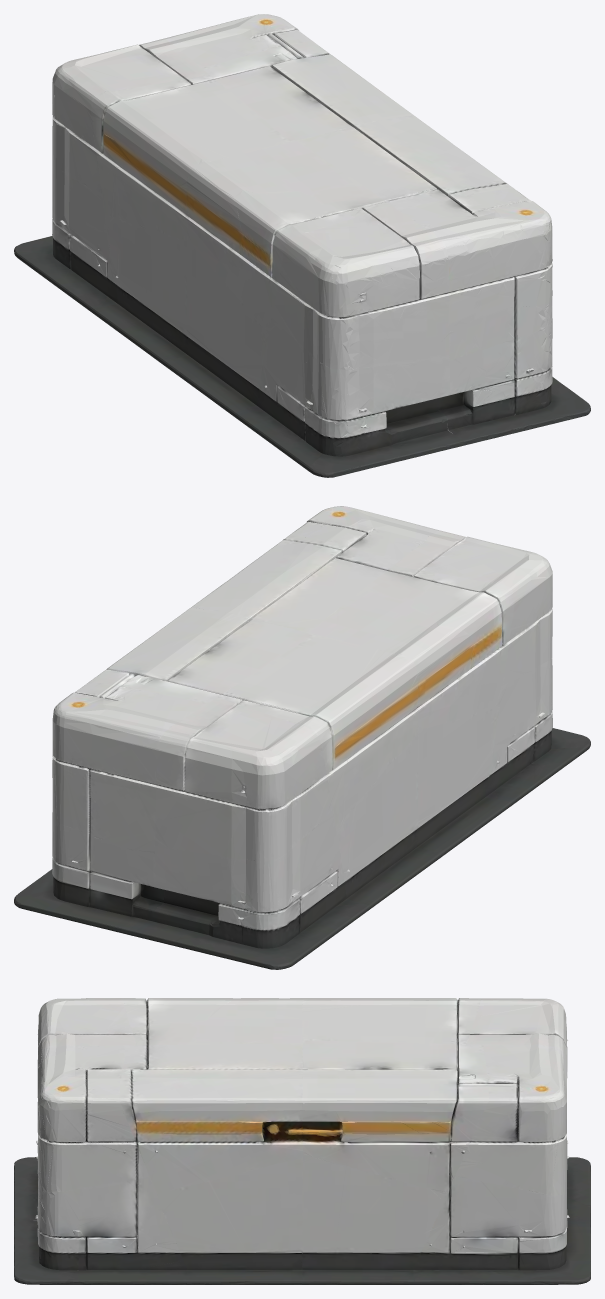
File: futuristic-lab-device-optimized.glb
3 renders of one model, top to bottom at view 1: azimuth 30°, elevation 25°; view 2: azimuth 150°, elevation 25°; view 3: azimuth 270°, elevation 25°, orthographic. The views are drawn at different scales.
Visible parts, largest first — view 1: tripo_node_e3cb4c01-ec2a-4add-b4ea-040828f3095d; view 2: tripo_node_e3cb4c01-ec2a-4add-b4ea-040828f3095d; view 3: tripo_node_e3cb4c01-ec2a-4add-b4ea-040828f3095d.
Part boxes in pixels (<box>): tripo_node_e3cb4c01-ec2a-4add-b4ea-040828f3095d: <box>14,14,590,477</box>; tripo_node_e3cb4c01-ec2a-4add-b4ea-040828f3095d: <box>14,506,590,969</box>; tripo_node_e3cb4c01-ec2a-4add-b4ea-040828f3095d: <box>14,998,590,1284</box>.
Size of the model in its own units: 0.5098 by 0.3426 by 1.
1 material, 1 textured.
